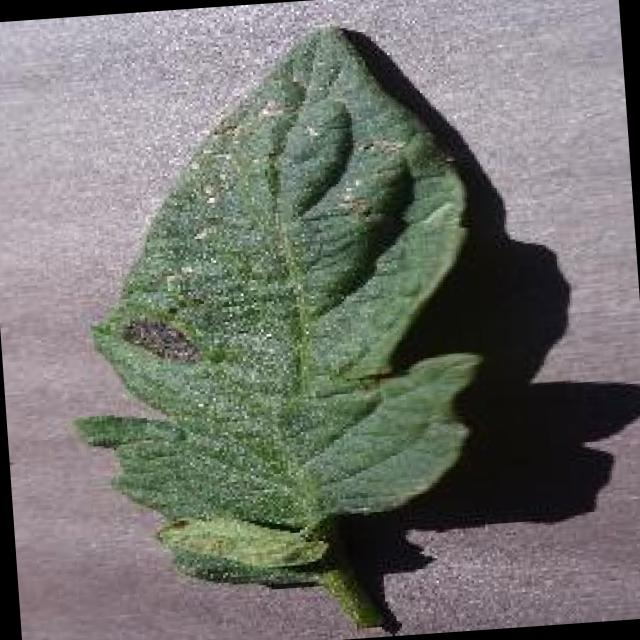Tomato_Early_Blight: (60, 21, 446, 570)
